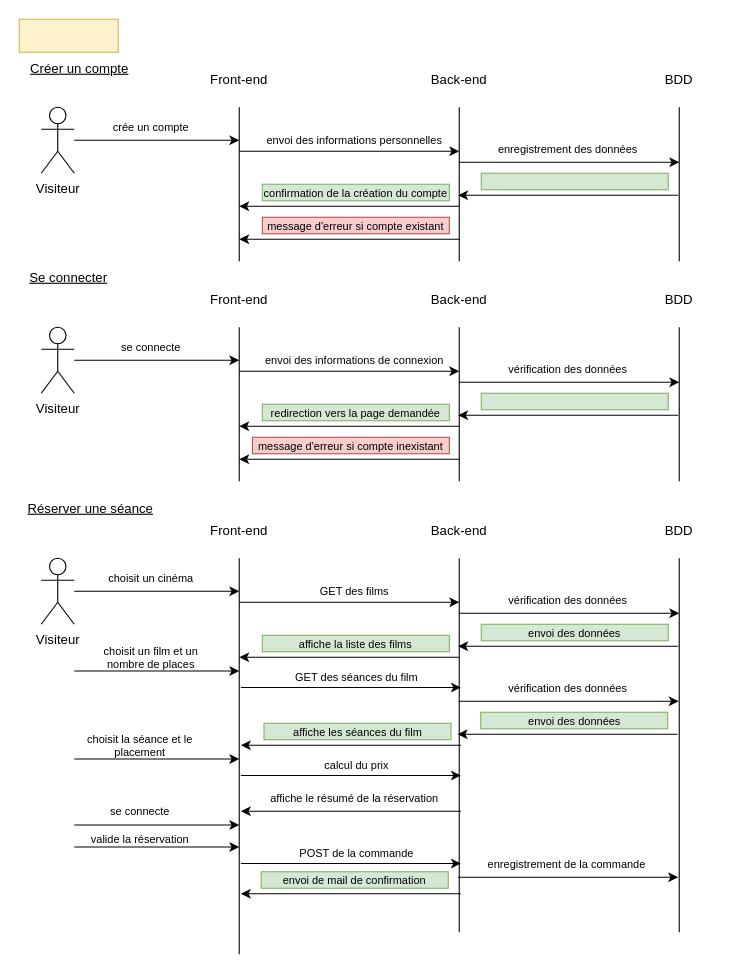
Some shapes in this 732 by 975 pixel diagram are drawn without their labels. The centre of each missing label's shape, as x and y in pixels:
"Application web" belongs at (x=68, y=35).
"connexion au compte si validée" belongs at (x=574, y=401).
"création du compte si validée" belongs at (x=574, y=181).
